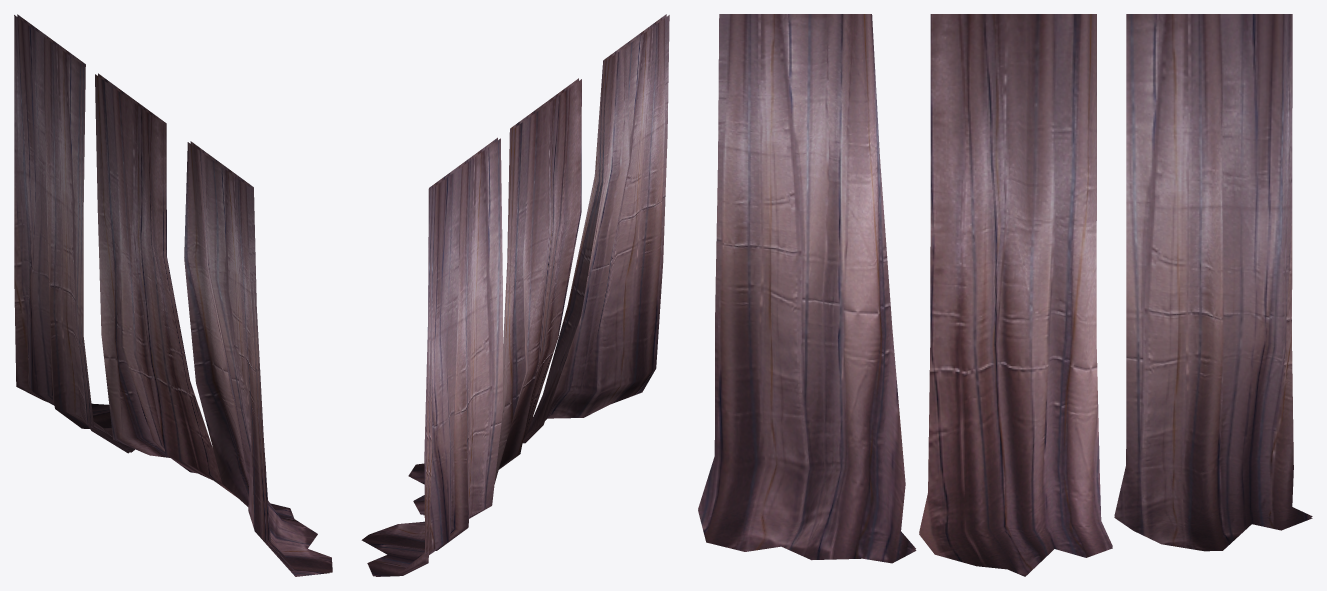
Rendered from M_Home_Garden_Curtain_01.fbx.
3 renders of one model, left to right at view 1: azimuth 30°, elevation 25°; view 2: azimuth 150°, elevation 25°; view 3: azimuth 270°, elevation 25°, orthographic. The views are drawn at different scales.
Visible parts, largest first — view 1: M_Home_Garden_Curtain_01; view 2: M_Home_Garden_Curtain_01; view 3: M_Home_Garden_Curtain_01.
Part boxes in pixels (<box>): M_Home_Garden_Curtain_01: <box>14,14,332,576</box>; M_Home_Garden_Curtain_01: <box>361,14,669,576</box>; M_Home_Garden_Curtain_01: <box>698,14,1312,576</box>.
Bounding box in the file's own units: 103 × 289 × 333.
